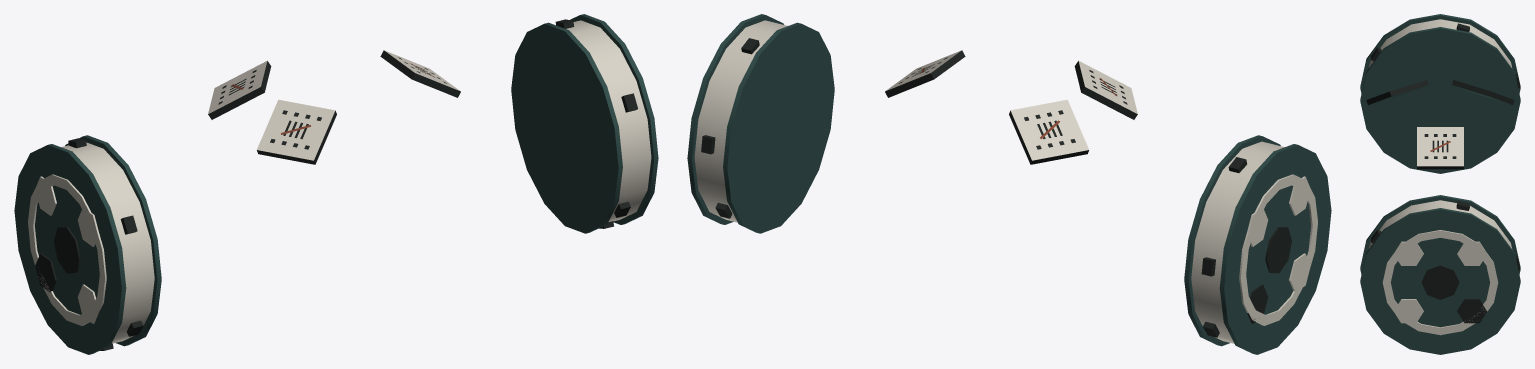
The model's file is shell_tally_c5.glb.
3 renders of one model, left to right at view 1: azimuth 30°, elevation 25°; view 2: azimuth 150°, elevation 25°; view 3: azimuth 270°, elevation 25°, orthographic. The views are drawn at different scales.
Visible parts, largest first — view 1: HeavyDrums, Pod; view 2: HeavyDrums, Pod; view 3: HeavyDrums, Pod.
Part boxes in pixels (left/top/right/bottom): HeavyDrums: left=14, top=14, right=658, bottom=354; Pod: left=208, top=50, right=460, bottom=164; HeavyDrums: left=687, top=14, right=1331, bottom=354; Pod: left=885, top=50, right=1137, bottom=164; HeavyDrums: left=1360, top=14, right=1520, bottom=354; Pod: left=1366, top=80, right=1514, bottom=169.
Size of the model in its own units: 2.99 by 1.08 by 1.03.
